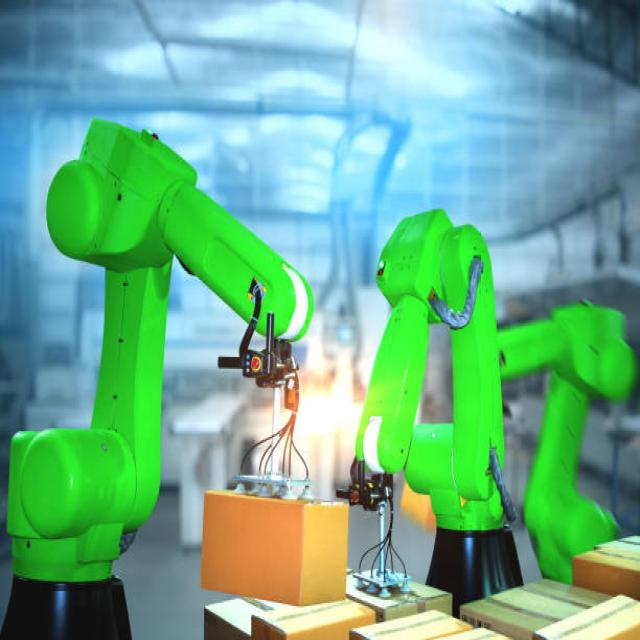Robotic-arm: (8, 105, 326, 640), (350, 202, 506, 614), (495, 292, 637, 563)
